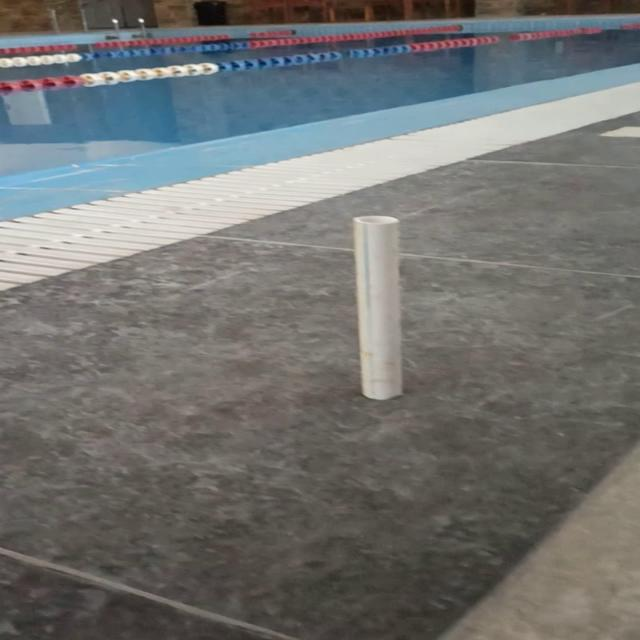Cube: (350, 214, 404, 400)
